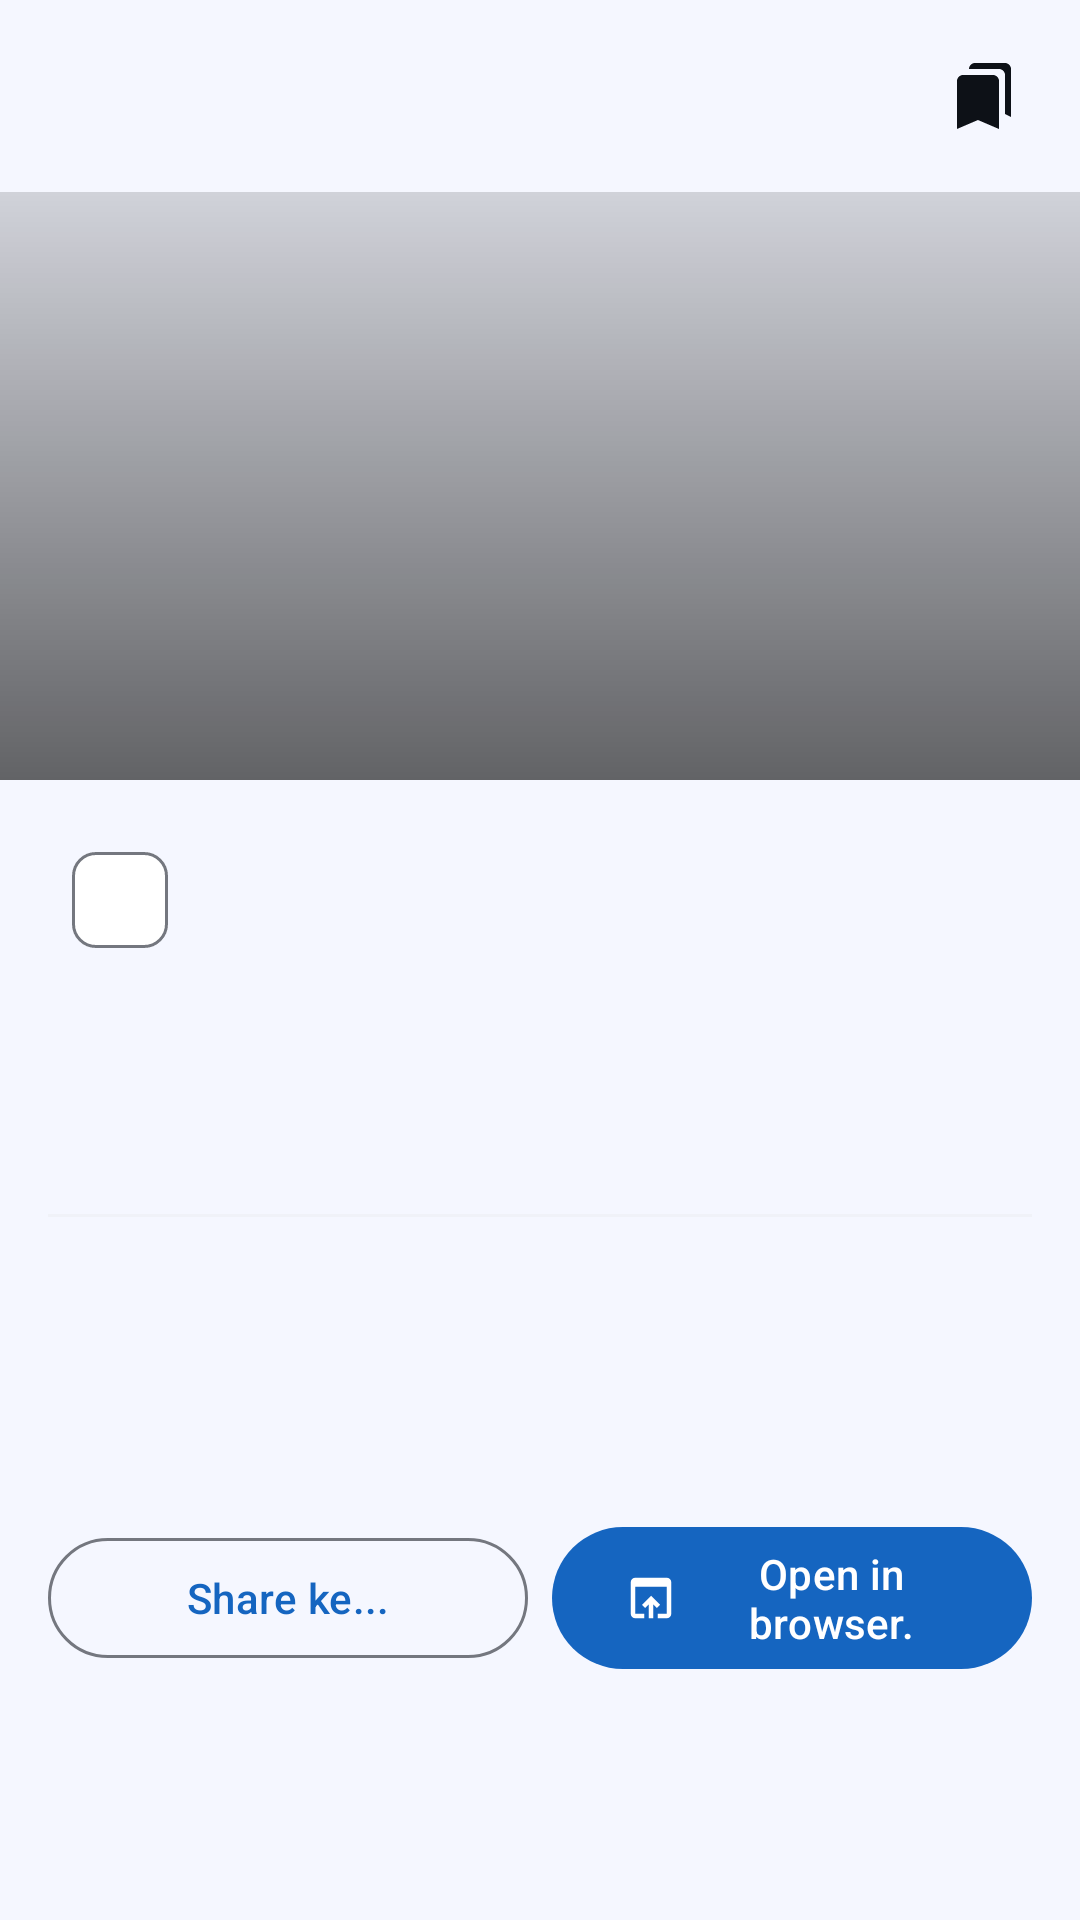

Named icons in this screenshot (1080×1920) and their bounding boxes, (x1, y1, x2, y2):
Bookmark icon: (957, 63, 1011, 129)
